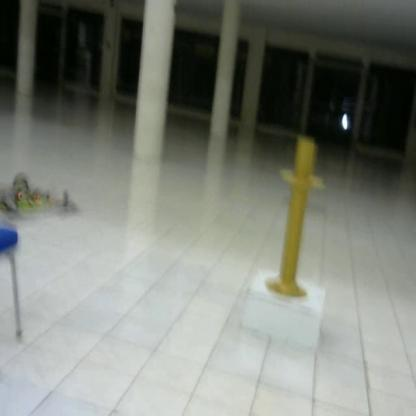pole: (267, 129, 325, 305)
